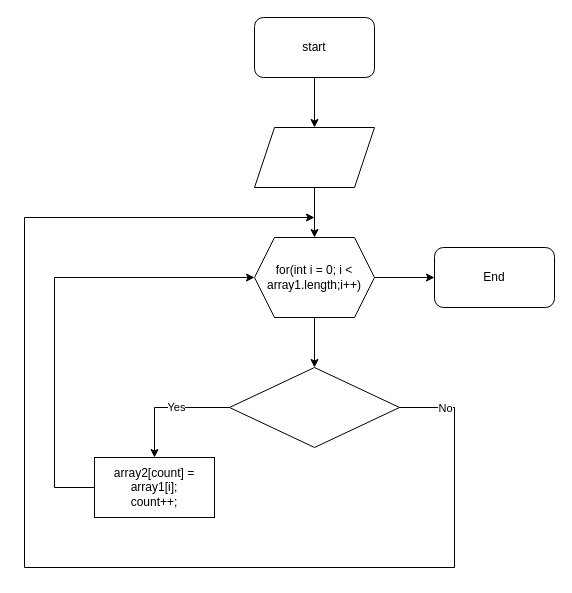
This 572x593 diagram has some shape labels left out. Each missing label, with the centre of its shape:
"array1 =[] array2 = [] count = 0" belongs at point (314, 157).
"if (array1 [i].length<=3)" belongs at point (314, 407).
